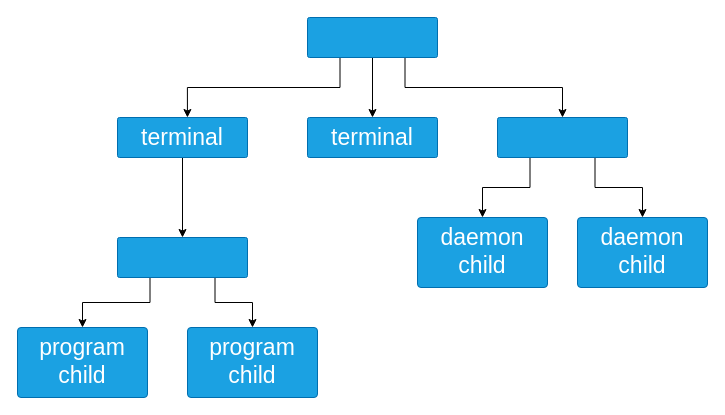
The diagram is 725 pixels wide and 415 high, and some of its shapes have lost their labels. Each missing label, with the centre of its shape:
"daemon" belongs at (x=562, y=137).
"init" belongs at (x=372, y=37).
"program" belongs at (x=182, y=257).
